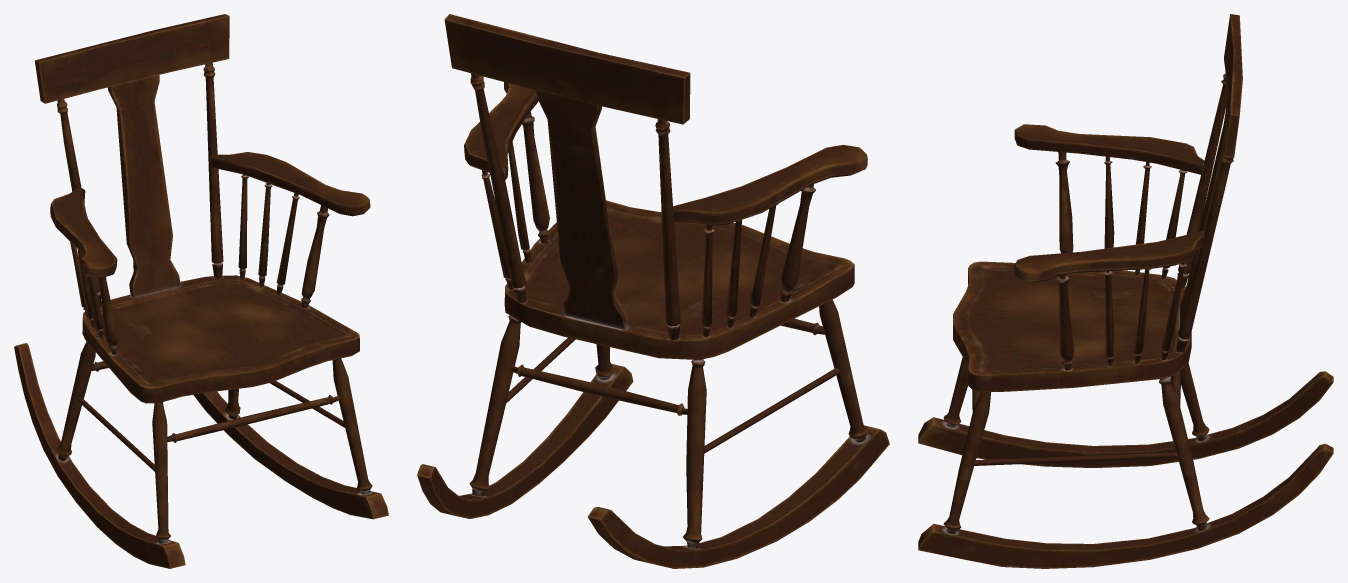
The model's file is ph-Rockingchair_01.glb.
3 renders of one model, left to right at view 1: azimuth 30°, elevation 25°; view 2: azimuth 150°, elevation 25°; view 3: azimuth 270°, elevation 25°, orthographic. The views are drawn at different scales.
Parts seen in each view (by area): view 1: Rockingchair_01; view 2: Rockingchair_01; view 3: Rockingchair_01.
Boxes of the visible parts, x1,y1,x2,y2 form: Rockingchair_01: [14, 14, 388, 568]; Rockingchair_01: [417, 14, 889, 568]; Rockingchair_01: [918, 14, 1333, 568].
Size of the model in its own units: 0.7081 by 0.9949 by 0.8335.
Materials: 1 (1 with a texture image).
